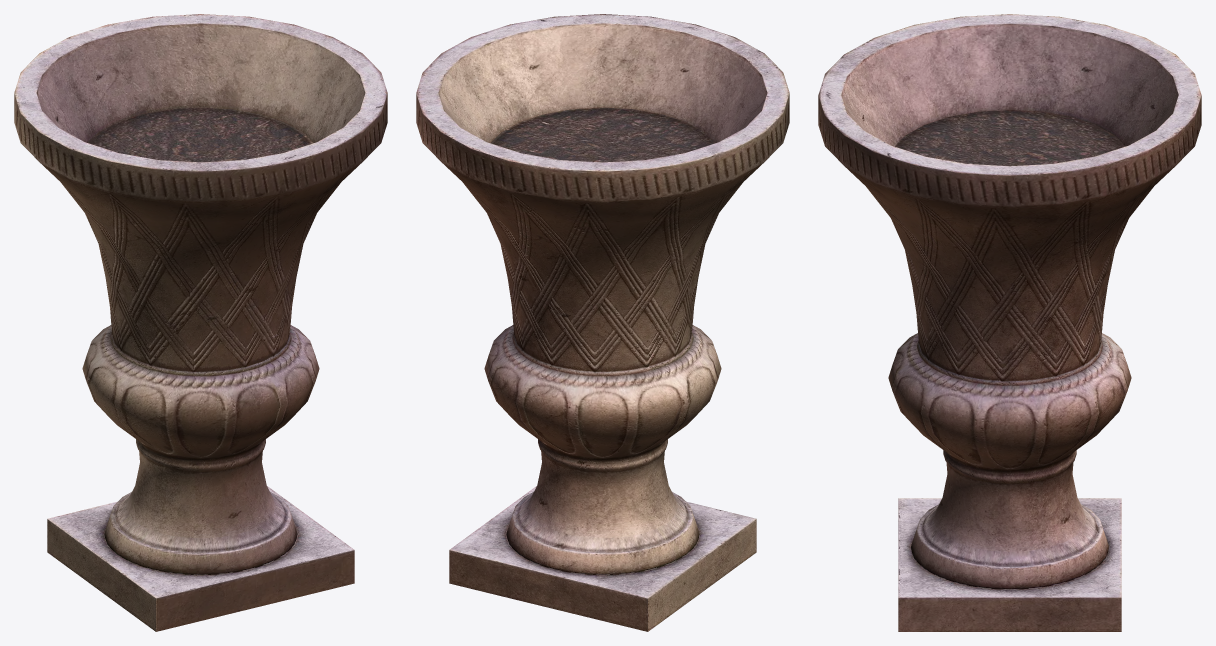
File: decorative_vase.glb
3 views of the same model, side by side, from view 1: azimuth 30°, elevation 25°; view 2: azimuth 150°, elevation 25°; view 3: azimuth 270°, elevation 25° (orthographic). The views are drawn at different scales.
Visible parts, largest first — view 1: Object_2; view 2: Object_2; view 3: Object_2.
Part boxes in pixels (x1,y1,x2,y2): Object_2: [14, 14, 387, 631]; Object_2: [416, 14, 789, 631]; Object_2: [818, 14, 1201, 631].
Bounding box in the file's own units: 64.03 × 89.87 × 64.03.
1 material, 1 textured.
